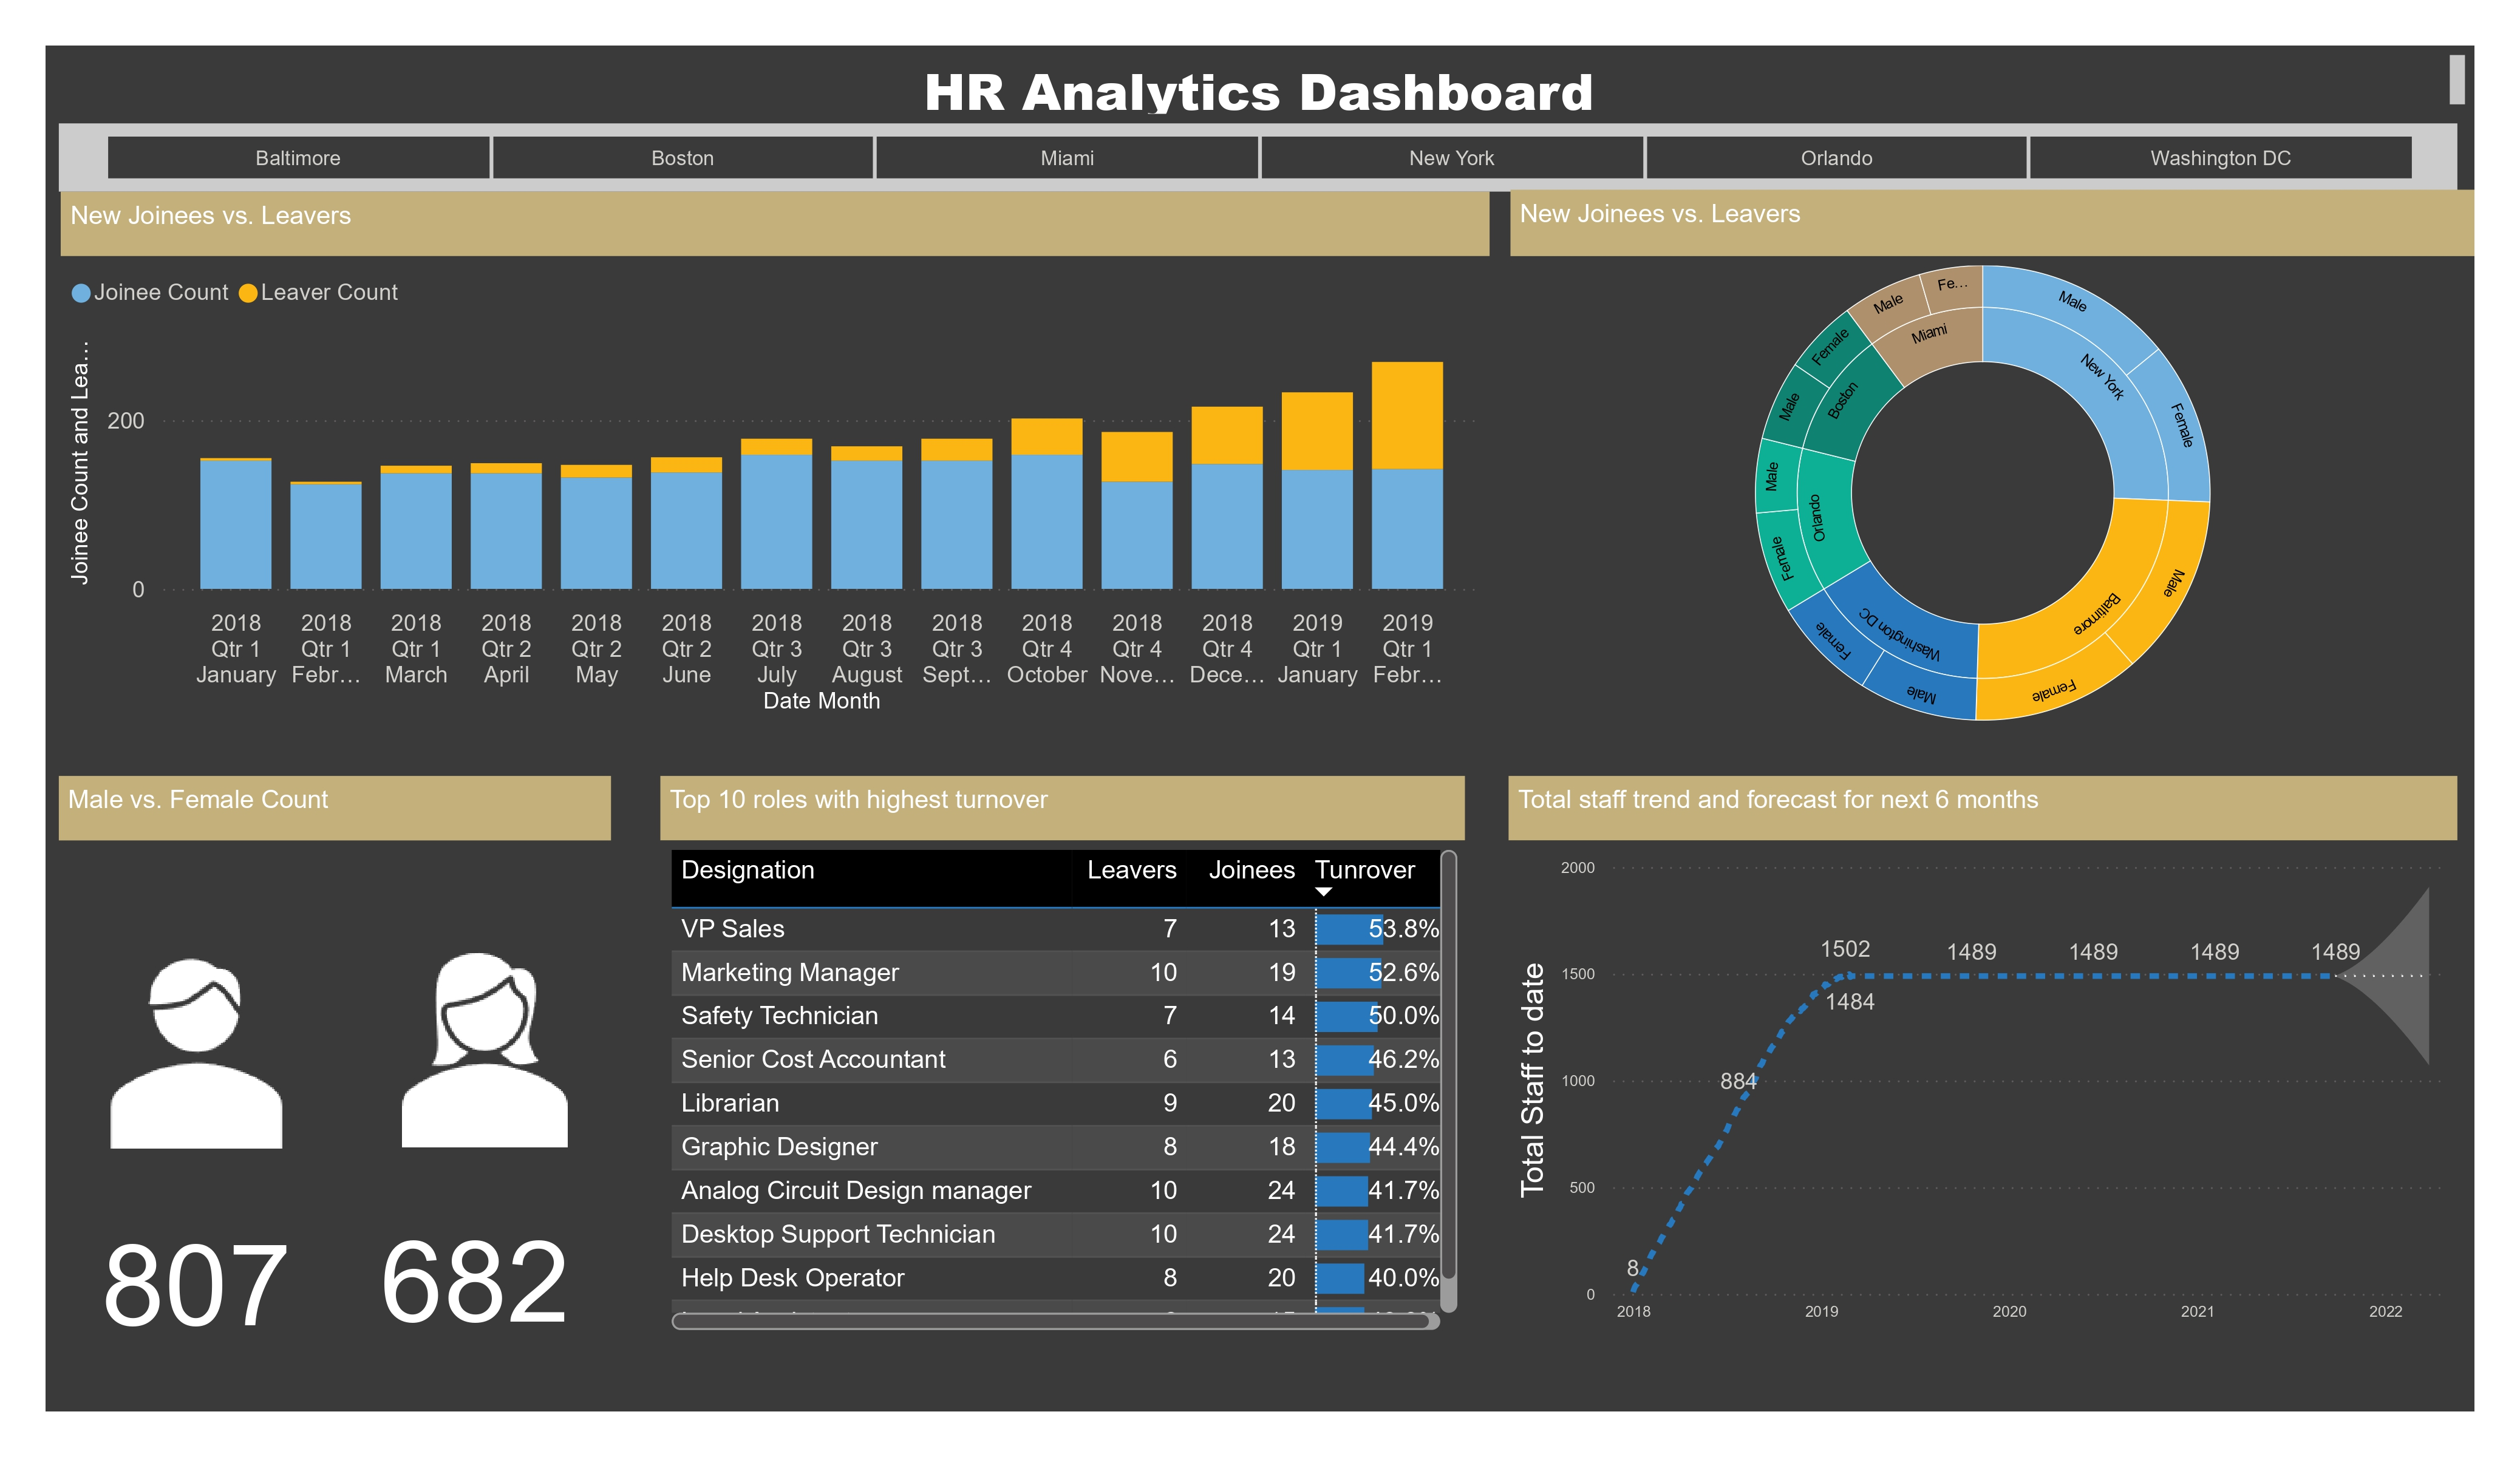

Layout of this report page (visuals, bound fields, positions):
{"tool":"powerbi","page":{"name":"Turonver report","canvas":[1280,720],"ordinal":0},"visuals":[{"type":"textbox","box":[7.8,76.7,753.6,34.5],"z":0},{"type":"textbox","box":[770.9,384.6,500.1,34.5],"z":1000},{"type":"textbox","box":[6.9,384.6,291.4,34.5],"z":2000},{"type":"textbox","box":[324.2,384.6,424.2,34.5],"z":3000},{"type":"Sunburst1445472000808","fields":{"Nodes":["dBranch.Branch","dGender.gender"],"Values":["leavers.Leaver Count"]},"box":[771.9,111.1,497.8,249.6],"z":4000},{"type":"tableEx","fields":{"Values":["dTitle.Designation","leavers.Leaver Count","staff.Joinee Count","staff.Tunrover %"]},"box":[324.2,419.1,425.1,263],"z":5000},{"type":"lineChart","fields":{"Y":["staff.Total Staff to date"],"Category":["calendar.Date.Variation.Date Hierarchy.Year","calendar.Date.Variation.Date Hierarchy.Quarter","calendar.Date.Variation.Date Hierarchy.Month","calendar.Date.Variation.Date Hierarchy.Day"]},"box":[770.9,419.1,500.1,263],"z":6000},{"type":"slicer","fields":{"Values":["dBranch.Branch"]},"box":[7.1,41.2,1263.9,35.5],"z":7000},{"type":"columnChart","fields":{"Category":["calendar.Date.Variation.Date Hierarchy.Year","calendar.Date.Variation.Date Hierarchy.Quarter","calendar.Date.Variation.Date Hierarchy.Month","calendar.Date.Variation.Date Hierarchy.Day"],"Y":["staff.Joinee Count","leavers.Leaver Count"]},"box":[7.8,111.2,752.8,245.7],"z":8000},{"type":"textbox","box":[771.9,76.5,507.9,34.6],"z":9000},{"type":"image","box":[7.1,454.4,144.9,159.1],"z":10000},{"type":"image","box":[161.3,455.2,141.1,157.9],"z":11000},{"type":"card","fields":{"Values":["staff.Total Staff to date"]},"box":[14.2,595,130.7,106.5],"z":12000},{"type":"card","fields":{"Values":["staff.Total Staff to date"]},"box":[161.3,593,131,107.5],"z":13000},{"type":"textbox","box":[7.1,0,1272.4,41.2],"z":14000}]}

Visuals, with their boxes in screenshot pixels (x1, y1, x2, y2):
textbox: 60:191:1490:256
textbox: 1508:775:2457:841
textbox: 59:775:611:841
textbox: 661:775:1466:841
Sunburst1445472000808 - dBranch.Branch x dGender.gender: 1510:256:2455:730
tableEx - dTitle.Designation x leavers.Leaver Count: 661:841:1468:1340
lineChart - staff.Total Staff to date x calendar.Date.Variation.Date Hierarchy.Year: 1508:841:2457:1340
slicer - dBranch.Branch: 59:124:2457:191
columnChart - calendar.Date.Variation.Date Hierarchy.Year x calendar.Date.Variation.Date Hierarchy.Quarter: 60:256:1489:722
textbox: 1510:191:2474:256
image: 59:908:334:1209
image: 352:909:619:1209
card - staff.Total Staff to date: 72:1174:321:1376
card - staff.Total Staff to date: 352:1170:600:1374
textbox: 59:46:2473:124
